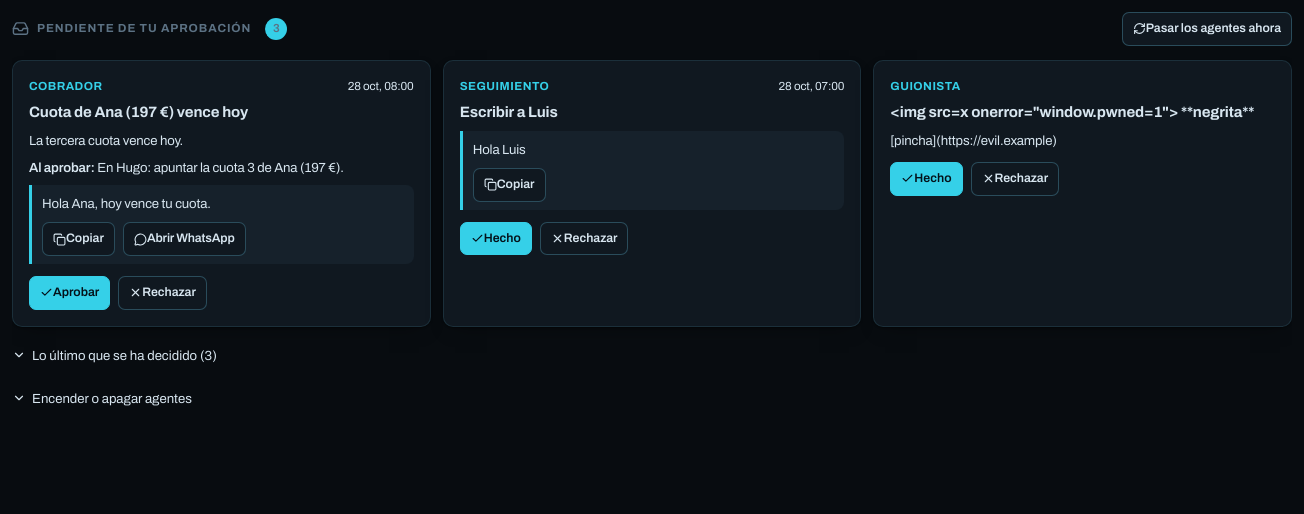
it: Bandeja › lo decidido va plegado y se despliega con su estado y cómo acabó
Expected: the text "Hecha" is not shown
Click the button "Lo último que se ha decidido (3)".
click(114, 355)  # box [12,341,217,370]
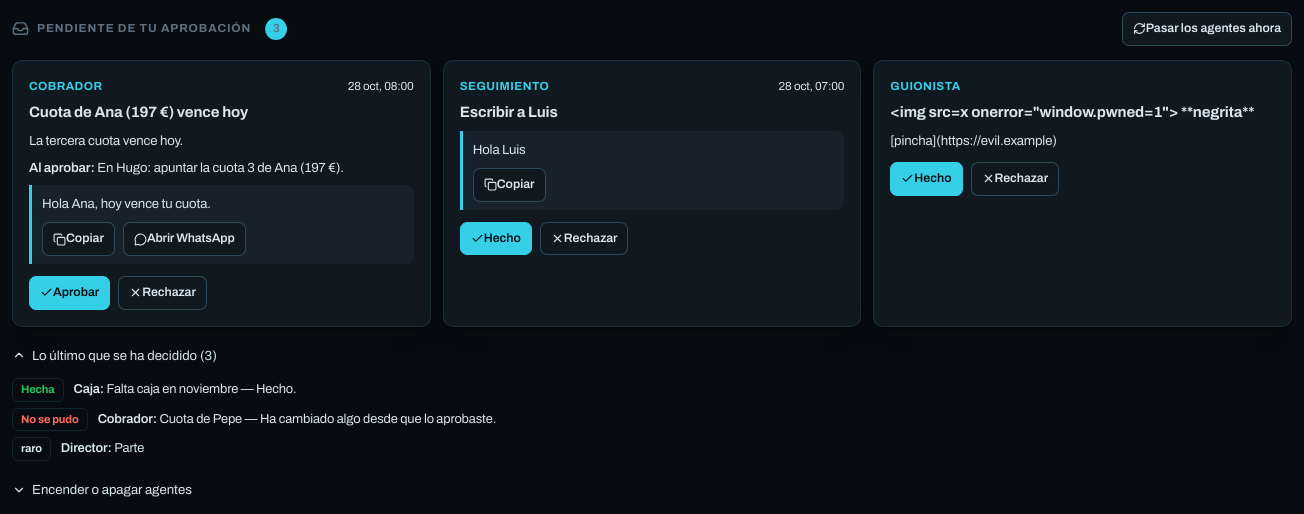
Result: the button "Lo último que se ha decidido (3)" is expanded
Result: the text "Ha cambiado algo desde que lo aprobaste" is shown at [242,412,496,426]
Click the button "Lo último que se ha decidido (3)".
click(114, 355)  # box [12,341,217,370]
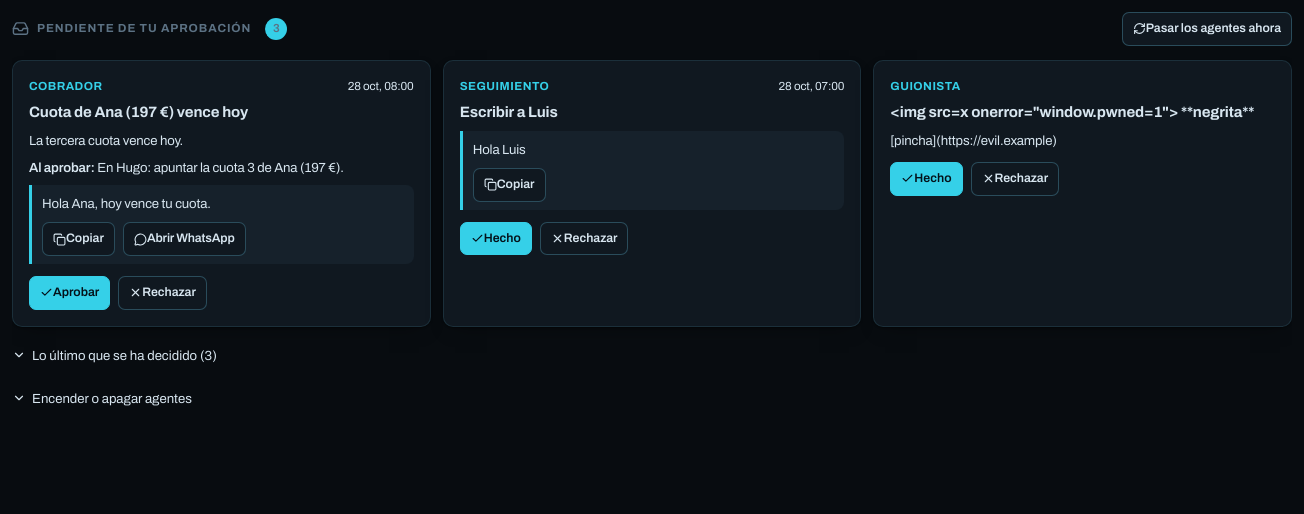
Result: the text "Hecha" is gone
